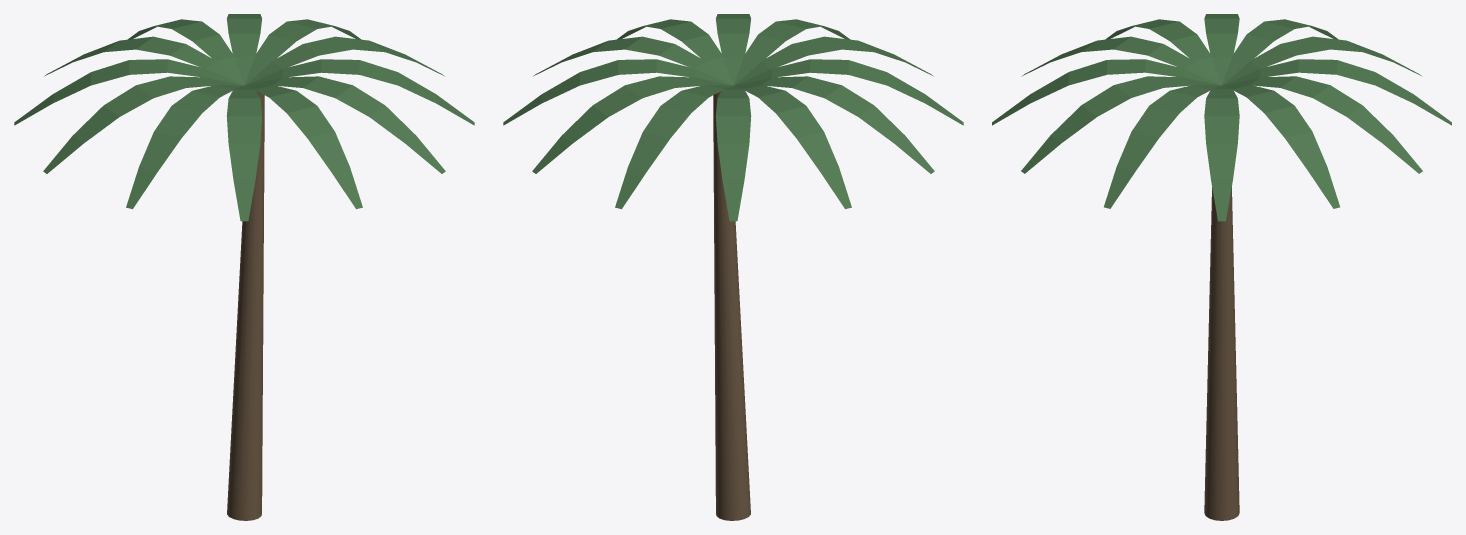
The model's file is Palm.fbx.
3 renders of one model, left to right at view 1: azimuth 30°, elevation 25°; view 2: azimuth 150°, elevation 25°; view 3: azimuth 270°, elevation 25°, orthographic.
Visible parts, largest first — view 1: Body.051; view 2: Body.051; view 3: Body.051.
Boxes of the visible parts, left/top/right/bottom form: Body.051: left=14, top=14, right=474, bottom=520; Body.051: left=503, top=14, right=963, bottom=520; Body.051: left=992, top=14, right=1451, bottom=520.
Size of the model in its own units: 7.8 by 8.38 by 7.8.
